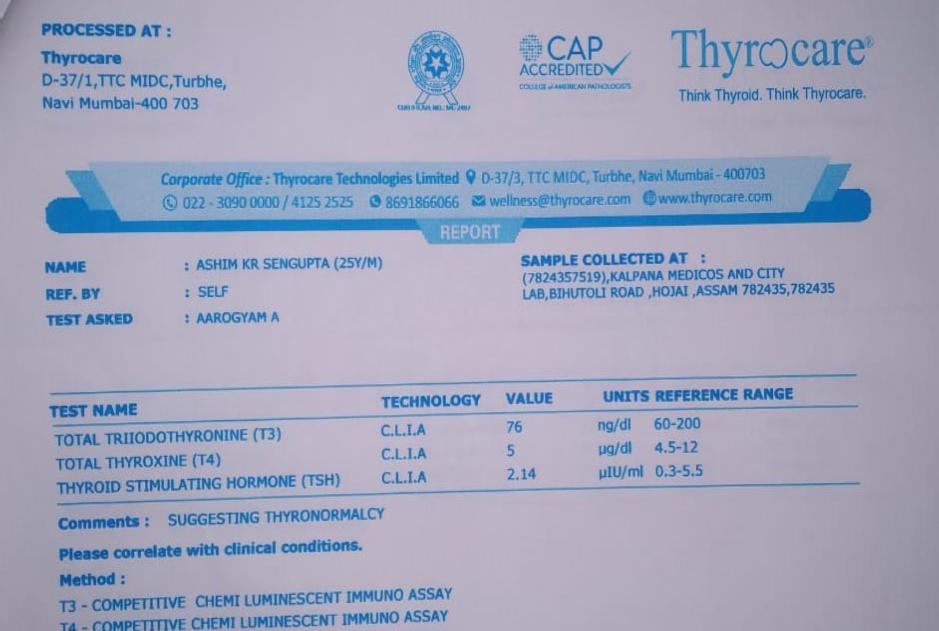Reference Range: (649, 409, 709, 486)
Test Name: (49, 422, 349, 502)
Units: (591, 410, 648, 488)
Value: (497, 411, 547, 490)
